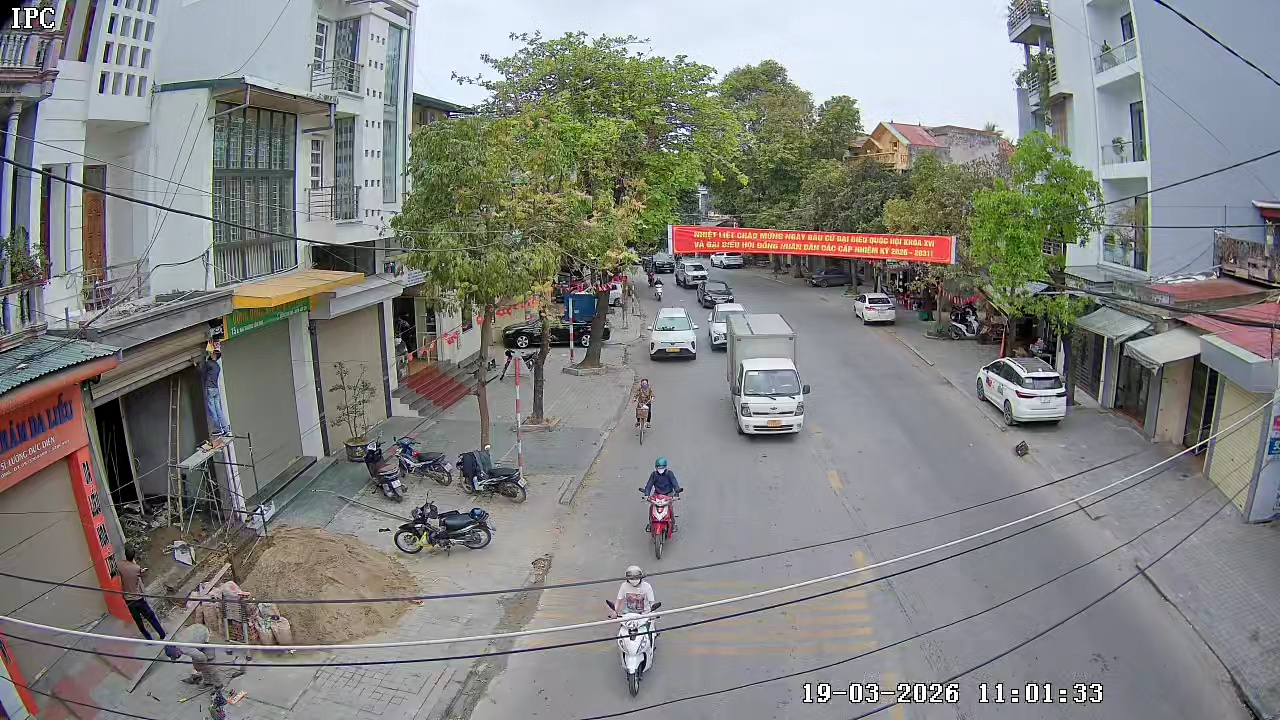bike: (630, 375, 655, 444)
car: (976, 353, 1069, 429), (646, 307, 700, 362), (705, 303, 751, 354), (855, 292, 897, 327), (699, 278, 736, 308)
motorbike: (603, 563, 665, 697), (393, 493, 497, 557), (455, 436, 530, 503), (638, 456, 684, 560)
truck: (727, 309, 810, 439)
